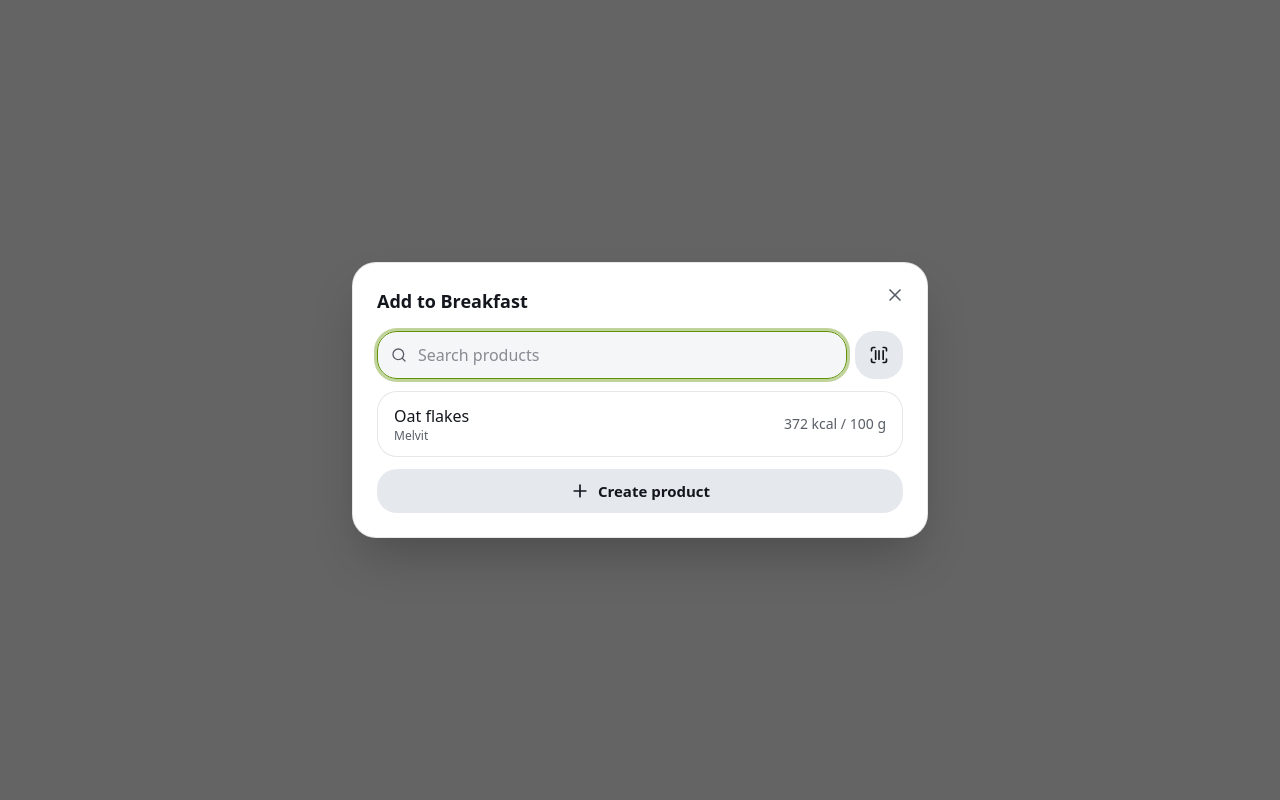
Test: does not save an invalid amount (0.01)
This screenshot has width=1280, height=800.
Step 1. Click the button "Oat flakes Melvit 372 kcal / 100 g" → [432, 416], box [377,391,903,457]
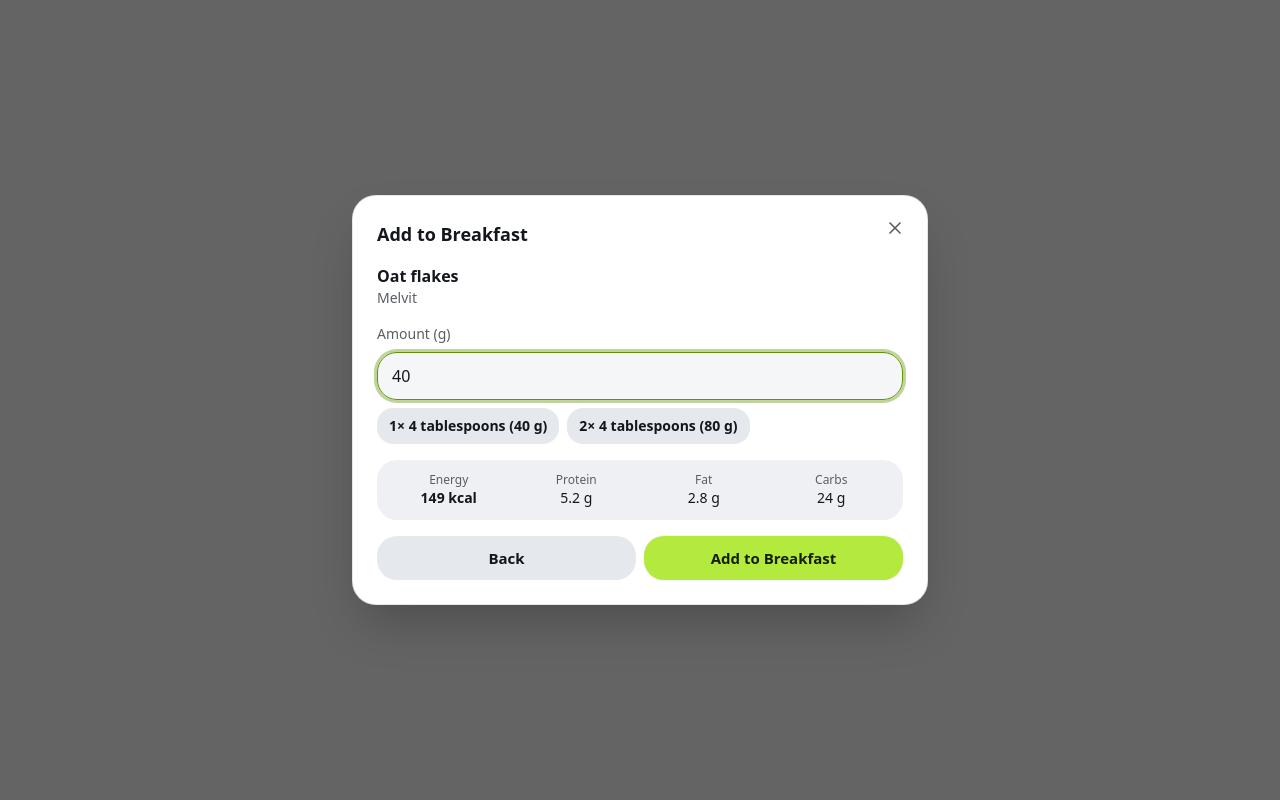
Step 2. Replace the text in the number field labelled "Amount (g)" with "0.01" → [640, 376], box [377,352,903,400]
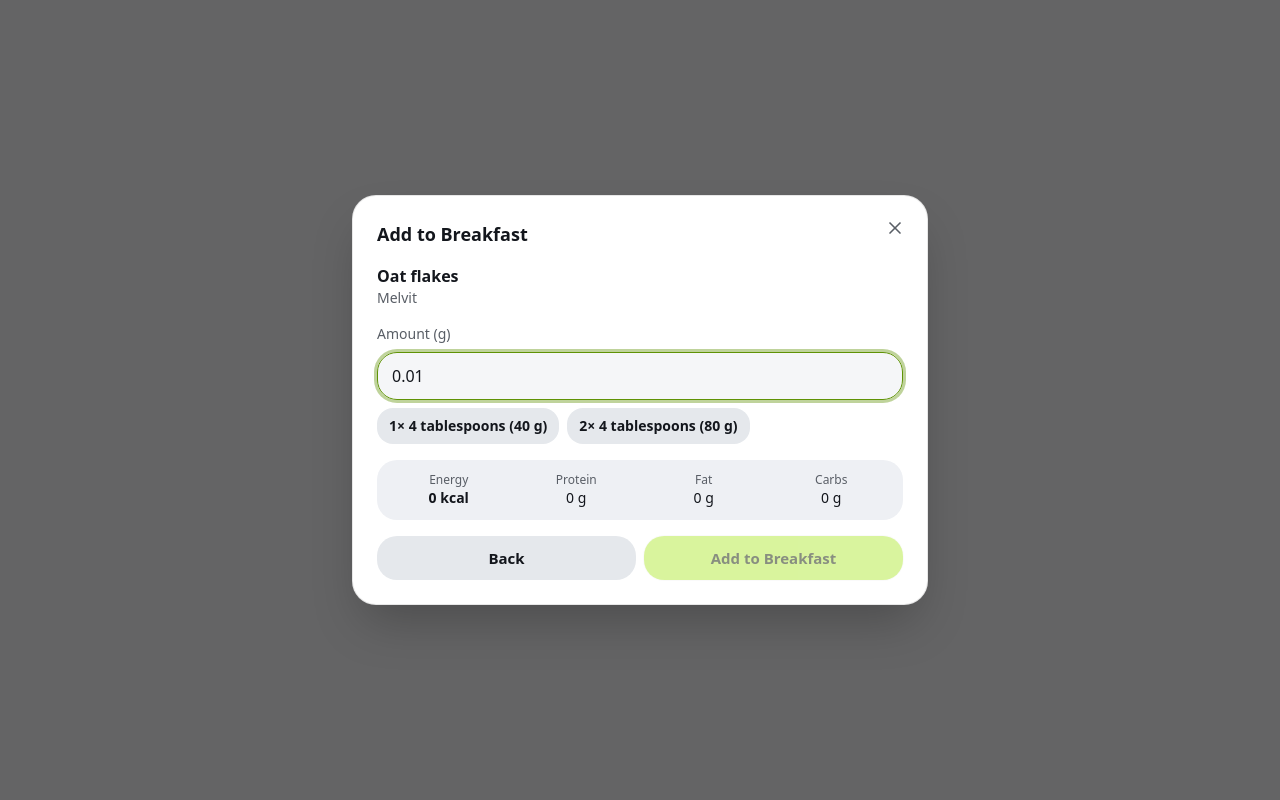
Check: the button "Add to Breakfast" is disabled, box [644,536,903,580]
